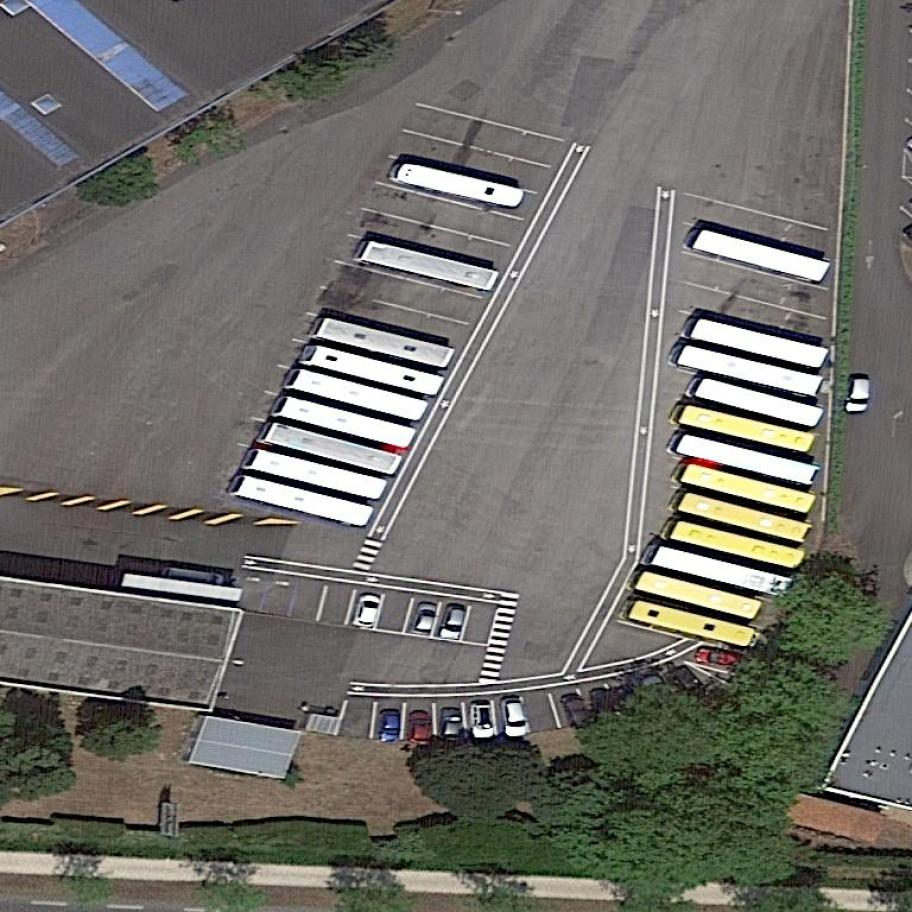large-vehicle: (640, 538, 799, 603), (670, 339, 827, 403), (666, 428, 823, 491), (280, 363, 429, 428), (672, 457, 821, 521), (271, 390, 418, 454), (298, 339, 447, 402), (684, 225, 830, 287), (660, 513, 808, 574), (670, 398, 817, 459), (683, 312, 830, 373), (683, 372, 827, 433), (353, 238, 500, 297), (669, 488, 816, 547), (241, 445, 390, 503), (254, 421, 405, 478), (306, 314, 457, 371), (617, 597, 762, 656), (228, 473, 375, 531), (627, 564, 766, 625), (385, 157, 528, 216)
small-vehicle: (160, 565, 226, 591), (640, 668, 677, 710), (500, 690, 531, 739), (588, 684, 622, 728), (349, 591, 384, 632), (561, 691, 594, 733), (844, 371, 874, 417), (669, 661, 704, 700), (439, 601, 469, 645), (469, 696, 496, 741), (410, 600, 439, 641), (695, 645, 742, 670), (408, 708, 433, 750), (377, 704, 403, 743), (439, 707, 465, 746)
